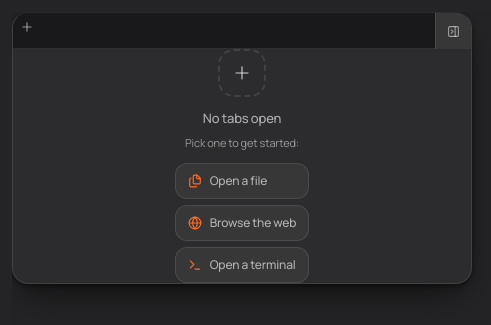
it: RightSidebar quick menu (ROUND-48 R48-c files explorer) › opening Files twice from the quick menu surfaces the SAME tab (singleton)
The width and height of the screenshot is (491, 325).
Click the button named "New tab".
click(27, 27)  # box [13,13,41,41]
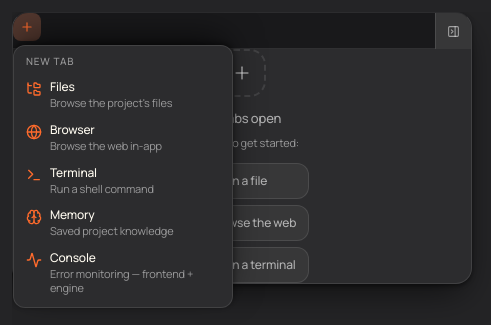
Click the button "Files Browse the project's files".
click(123, 94)  # box [20,73,226,116]
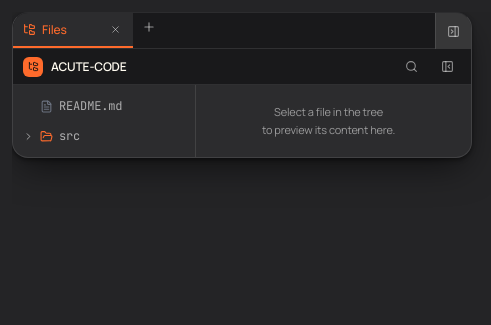
Expected: the element with test id "files-explorer-panel" is shown, [13,49,471,157]
Expected: the button "Browse the project's files" is gone
Click the button named "New tab".
click(149, 27)  # box [135,13,163,41]
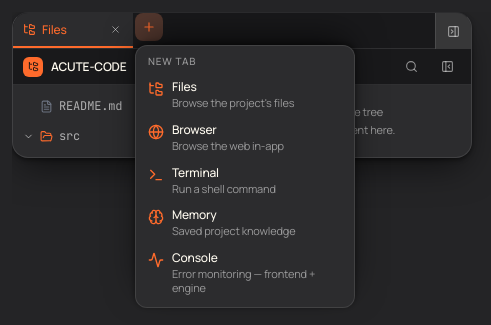
Click the button "Files Browse the project's files".
click(245, 94)  # box [142,73,348,116]
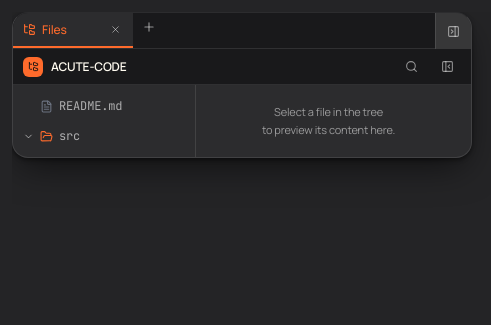
Expected: the element with test id "files-explorer-panel" is shown, [13,49,471,157]
Expected: the button "Browse the project's files" is gone
